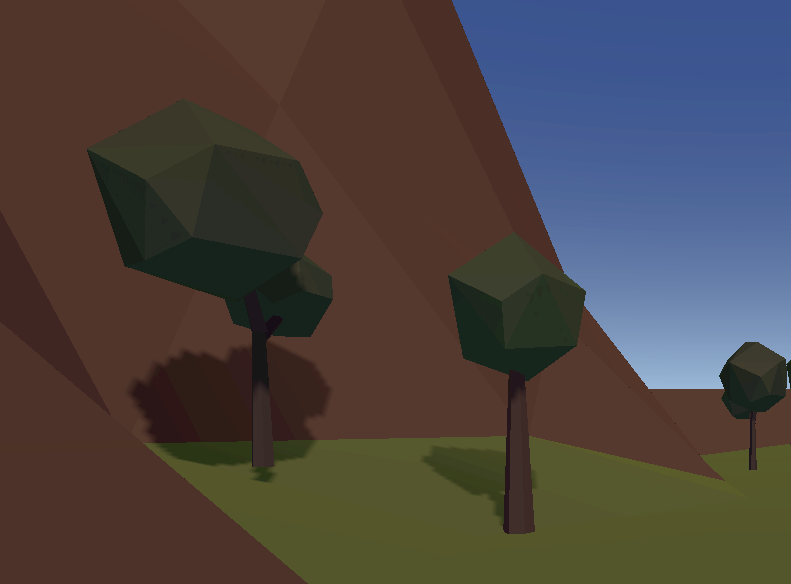tree: (82, 91, 338, 464), (451, 231, 587, 537), (719, 332, 791, 473)
